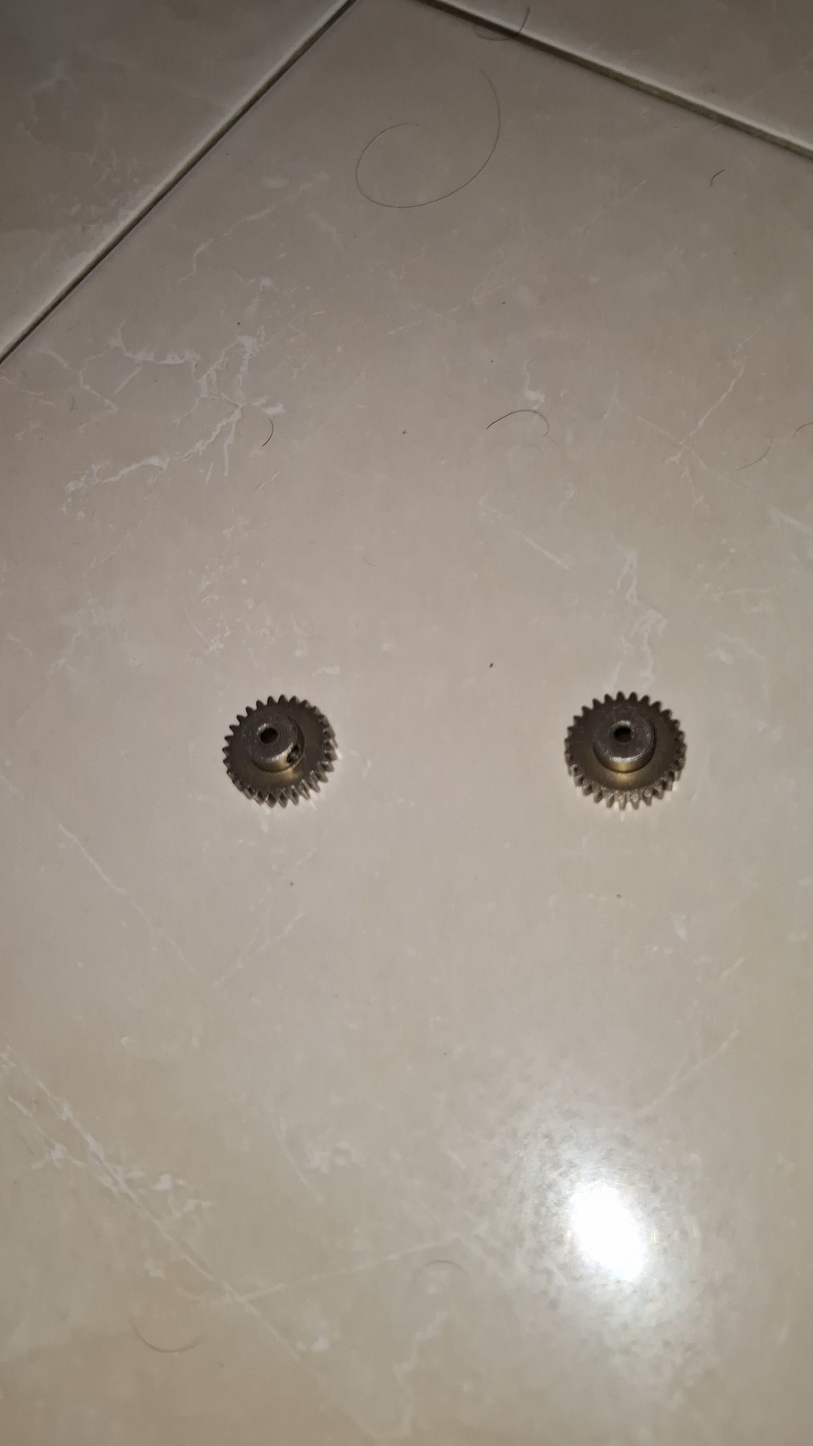spur gear: (565, 693, 685, 807), (224, 696, 336, 805)
